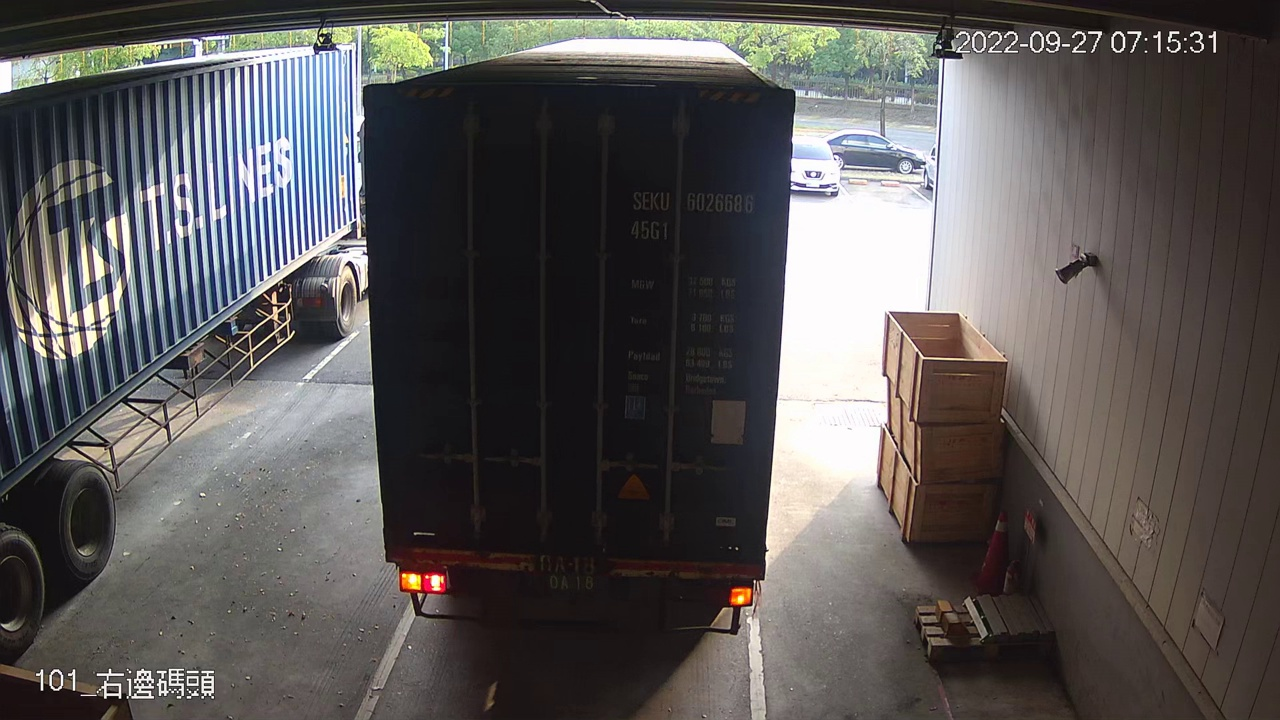container: (620, 175, 762, 248)
